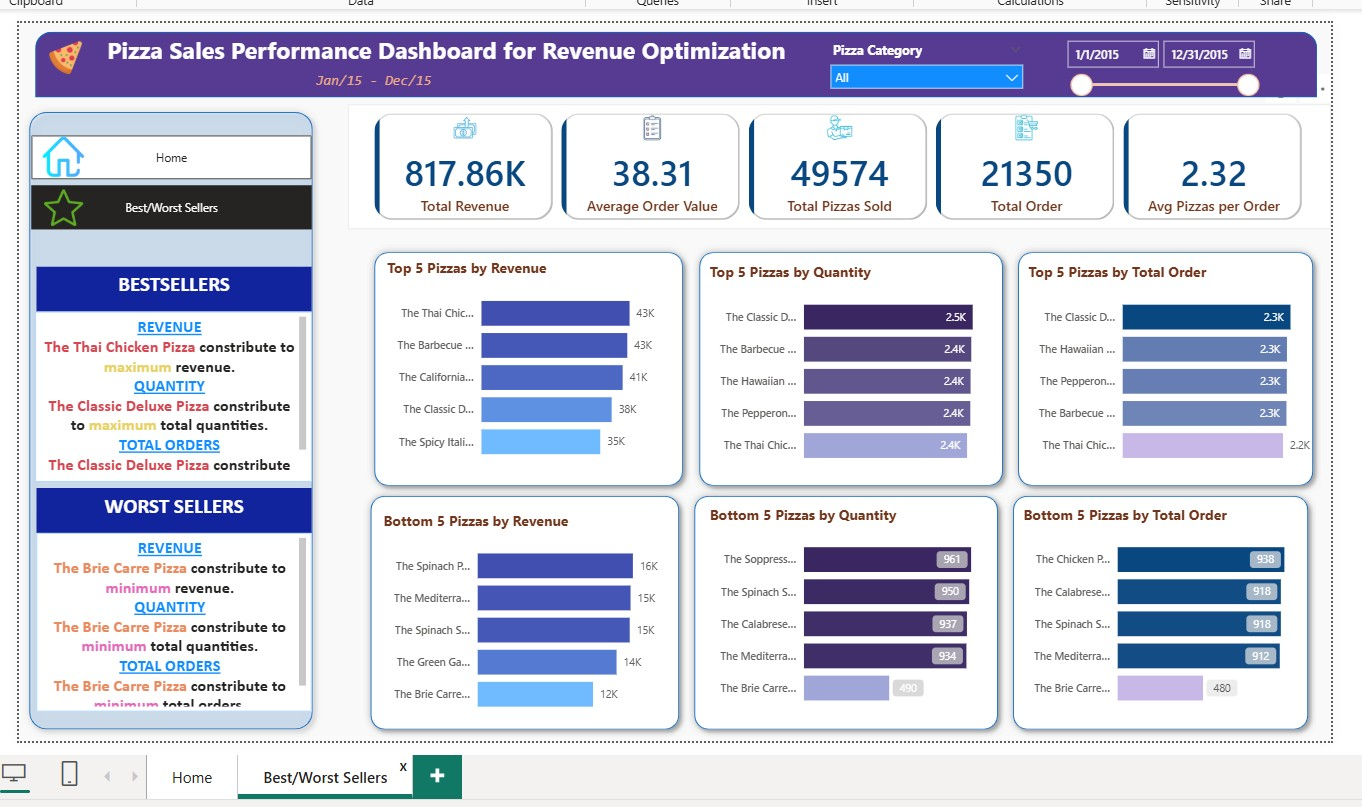

The dashboard page shown, as its layout file describes it:
{"tool":"powerbi","page":{"name":"Best/Worst Sellers","canvas":[1500,820],"ordinal":1},"visuals":[{"type":"cardVisual","fields":{"Data":["pizza_sales.Total Revenue","pizza_sales.Average Order Value","pizza_sales.Total Pizzas Sold","pizza_sales.Total Order","pizza_sales.Avg Pizzas per Order"]},"box":[376,93.3,1123.9,142.1],"z":0},{"type":"shape","box":[18.3,10,1465,75],"z":1000},{"type":"textbox","box":[12,7,954,48],"z":2000},{"type":"textbox","box":[334.3,51.4,170,34.3],"z":3000},{"type":"image","box":[0,20,105.8,39],"z":4000},{"type":"shape","box":[392.7,532,370.5,285],"z":5000},{"type":"shape","box":[762.3,530.8,364.9,285],"z":6000},{"type":"shape","box":[1127.2,530.8,355.1,285],"z":7000},{"type":"shape","box":[3.3,93.3,341.7,723.3],"z":8000},{"type":"textbox","box":[20,278.6,314.3,51.4],"z":9000},{"type":"slicer","fields":{"Values":["pizza_sales.pizza_category"]},"box":[916.7,15,240,66.7],"z":10000},{"type":"slicer","fields":{"Values":["pizza_sales.order_date"]},"box":[1185,10,240,75],"z":11000},{"type":"textbox","box":[18.6,330,315.7,194.3],"z":12000},{"type":"textbox","box":[20,531.4,314.3,51.4],"z":13000},{"type":"textbox","box":[20,582.9,314.3,204.3],"z":14000},{"type":"shape","box":[397.7,252.6,370.5,285],"z":15000},{"type":"shape","box":[768.1,252.6,364.9,285],"z":16000},{"type":"shape","box":[1133,252.6,355.1,285],"z":17000},{"type":"barChart","title":"Top 5 Pizzas by Revenue","fields":{"Category":["pizza_sales.pizza_name"],"Y":["pizza_sales.Total Revenue"]},"box":[416.4,268.8,334.2,245.1],"z":18000},{"type":"barChart","title":"Bottom 5 Pizzas by Revenue","fields":{"Category":["pizza_sales.pizza_name"],"Y":["pizza_sales.Total Revenue"]},"box":[410.8,557.1,334.2,245.1],"z":19000},{"type":"barChart","title":"Top 5 Pizzas by Quantity","fields":{"Category":["pizza_sales.pizza_name"],"Y":["pizza_sales.Total Pizzas Sold"]},"box":[784.1,273,334.2,245.1],"z":20000},{"type":"barChart","title":"Bottom 5 Pizzas by Quantity","fields":{"Category":["pizza_sales.pizza_name"],"Y":["pizza_sales.Total Pizzas Sold"]},"box":[784.1,550.1,334.2,245.1],"z":21000},{"type":"barChart","title":"Top 5 Pizzas by Total Order","fields":{"Category":["pizza_sales.pizza_name"],"Y":["pizza_sales.Total Order"]},"box":[1149,273,334.2,245.1],"z":22000},{"type":"barChart","title":"Bottom 5 Pizzas by Total Order","fields":{"Category":["pizza_sales.pizza_name"],"Y":["pizza_sales.Total Order"]},"box":[1143.4,550.1,334.2,245.1],"z":23000},{"type":"pageNavigator","box":[14,128,320,50.1],"z":24000},{"type":"pageNavigator","box":[13.9,185.2,320.3,50.1],"z":25000},{"type":"image","box":[26.5,125.3,47.4,54.3],"z":26000},{"type":"image","box":[29.2,171.3,44.6,79.4],"z":27000}]}

Visuals, with their boxes on the page's 1500x820 design canvas (x1, y1, x2, y2). These are canvas units, not pixel positions in the 1362x807 screenshot, which may show the page scaled, cropped or inside an application window:
cardVisual - pizza_sales.Total Revenue x pizza_sales.Average Order Value: BBox(376, 93, 1500, 235)
shape: BBox(18, 10, 1483, 85)
textbox: BBox(12, 7, 966, 55)
textbox: BBox(334, 51, 504, 86)
image: BBox(0, 20, 106, 59)
shape: BBox(393, 532, 763, 817)
shape: BBox(762, 531, 1127, 816)
shape: BBox(1127, 531, 1482, 816)
shape: BBox(3, 93, 345, 817)
textbox: BBox(20, 279, 334, 330)
slicer - pizza_sales.pizza_category: BBox(917, 15, 1157, 82)
slicer - pizza_sales.order_date: BBox(1185, 10, 1425, 85)
textbox: BBox(19, 330, 334, 524)
textbox: BBox(20, 531, 334, 583)
textbox: BBox(20, 583, 334, 787)
shape: BBox(398, 253, 768, 538)
shape: BBox(768, 253, 1133, 538)
shape: BBox(1133, 253, 1488, 538)
"Top 5 Pizzas by Revenue" barChart: BBox(416, 269, 751, 514)
"Bottom 5 Pizzas by Revenue" barChart: BBox(411, 557, 745, 802)
"Top 5 Pizzas by Quantity" barChart: BBox(784, 273, 1118, 518)
"Bottom 5 Pizzas by Quantity" barChart: BBox(784, 550, 1118, 795)
"Top 5 Pizzas by Total Order" barChart: BBox(1149, 273, 1483, 518)
"Bottom 5 Pizzas by Total Order" barChart: BBox(1143, 550, 1478, 795)
pageNavigator: BBox(14, 128, 334, 178)
pageNavigator: BBox(14, 185, 334, 235)
image: BBox(26, 125, 74, 180)
image: BBox(29, 171, 74, 251)
